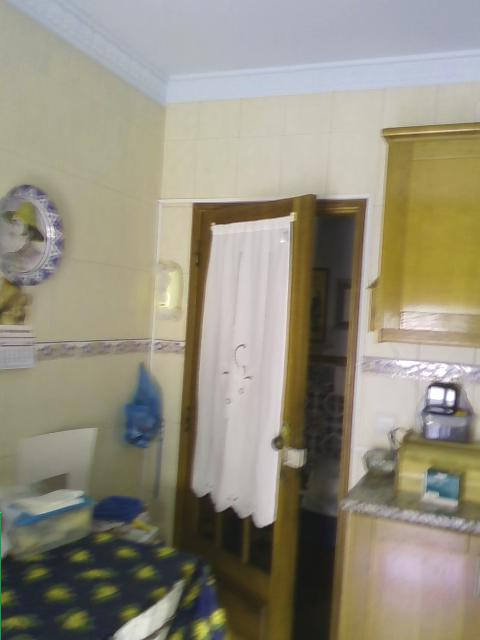semi_door: (172, 190, 368, 639)
